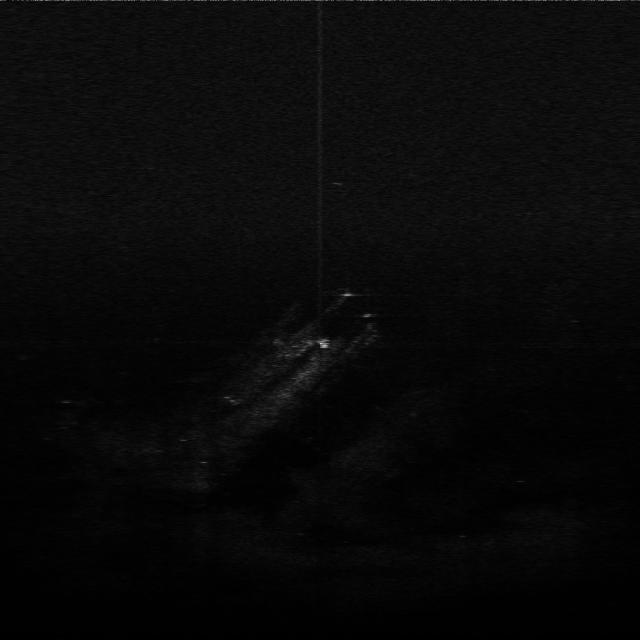rov: (309, 336, 337, 354)
